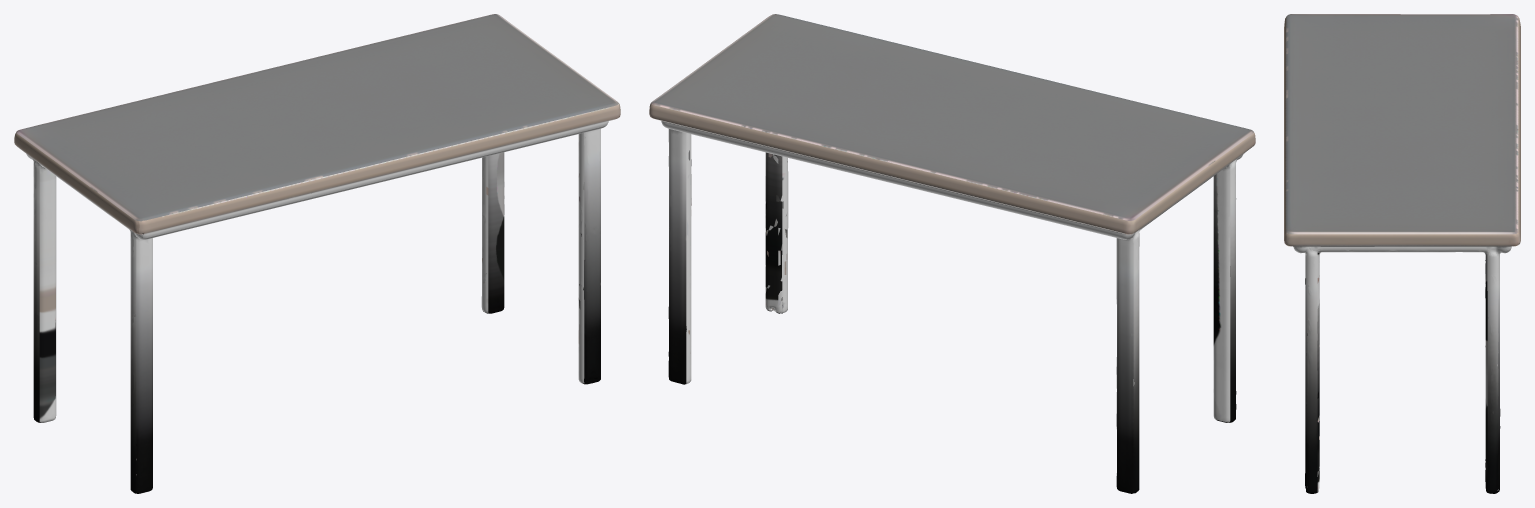
File: desk__desk#5.glb
3 renders of one model, left to right at view 1: azimuth 30°, elevation 25°; view 2: azimuth 150°, elevation 25°; view 3: azimuth 270°, elevation 25°, orthographic. The views are drawn at different scales.
Visible parts, largest first — view 1: tmpfx0cxgb5.ply; view 2: tmpfx0cxgb5.ply; view 3: tmpfx0cxgb5.ply.
Boxes of the visible parts, bbox=[...] form: tmpfx0cxgb5.ply: bbox=[14, 14, 620, 493]; tmpfx0cxgb5.ply: bbox=[649, 14, 1255, 493]; tmpfx0cxgb5.ply: bbox=[1284, 14, 1520, 493].
Bounding box in the file's own units: 1.99 × 1.11 × 0.9.
1 material, 1 textured.
